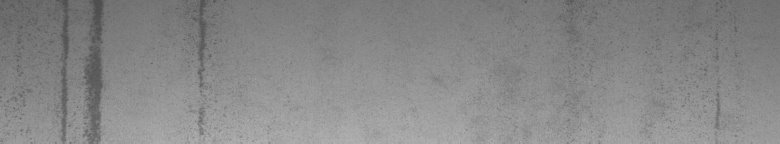hd: (7, 4, 108, 136)
